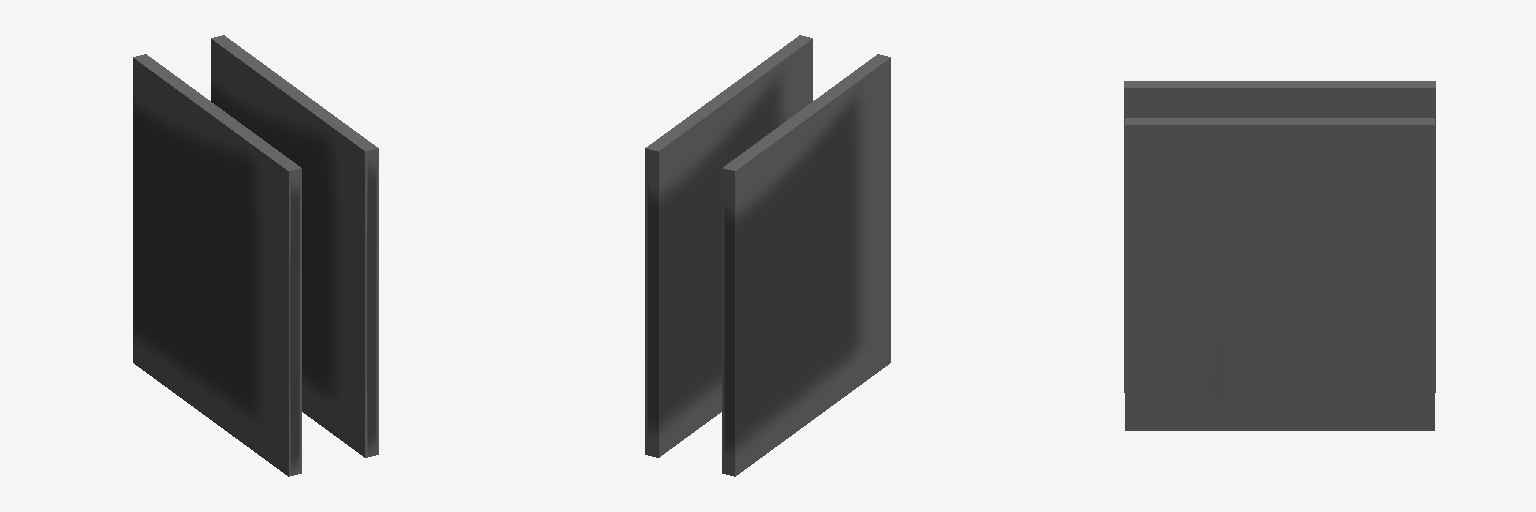
3 views of the same model, side by side, from view 1: azimuth 30°, elevation 25°; view 2: azimuth 150°, elevation 25°; view 3: azimuth 270°, elevation 25° (orthographic).
Parts seen in each view (by area): view 1: Cube.001_Cube.003; view 2: Cube.001_Cube.003; view 3: Cube.001_Cube.003.
Boxes of the visible parts, x1=… form: Cube.001_Cube.003: x1=133, y1=35, x2=378, y2=476; Cube.001_Cube.003: x1=645, y1=35, x2=890, y2=476; Cube.001_Cube.003: x1=1124, y1=81, x2=1435, y2=430.
Size of the model in its own units: 13.56 by 43.79 by 40.39.
1 materials, 1 textured.